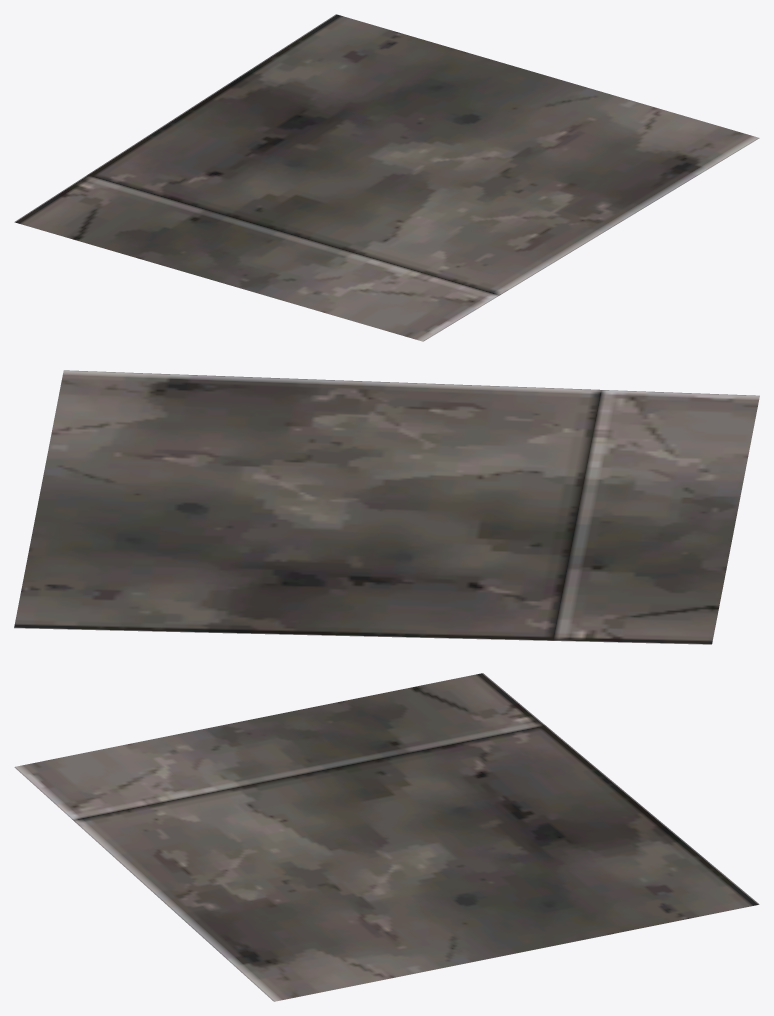
File: CH09_SMAUG_PLAYSURFACE_LAIR142.fbx
The picture shows the model from 3 angles, top to bottom: view 1: azimuth 30°, elevation 25°; view 2: azimuth 150°, elevation 25°; view 3: azimuth 270°, elevation 25°; orthographic projection. The views are drawn at different scales.
Parts seen in each view (by area): view 1: CH09_SMAUG_PLAYSURFACE_LAIR142; view 2: CH09_SMAUG_PLAYSURFACE_LAIR142; view 3: CH09_SMAUG_PLAYSURFACE_LAIR142.
Boxes of the visible parts, x1,y1,x2,y2 form: CH09_SMAUG_PLAYSURFACE_LAIR142: [14, 14, 759, 341]; CH09_SMAUG_PLAYSURFACE_LAIR142: [14, 370, 759, 644]; CH09_SMAUG_PLAYSURFACE_LAIR142: [14, 673, 759, 1001].
Bounding box in the file's own units: 15487 × 0.00457 × 14848.
Materials: 1 (1 with a texture image).
